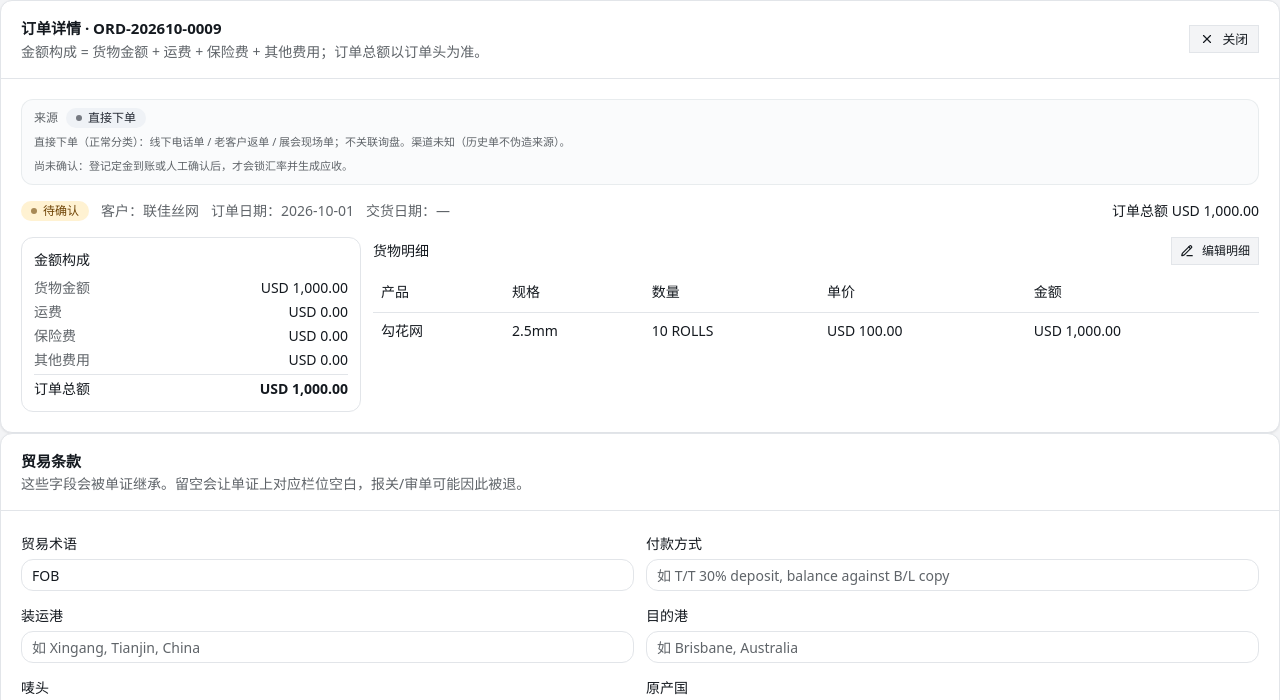
Test case: pending 订单：直接改明细 › 空产品名在本地拦下（不打 PATCH）
Click the button "编辑明细" at (1215, 250), box [1171,236,1259,264]
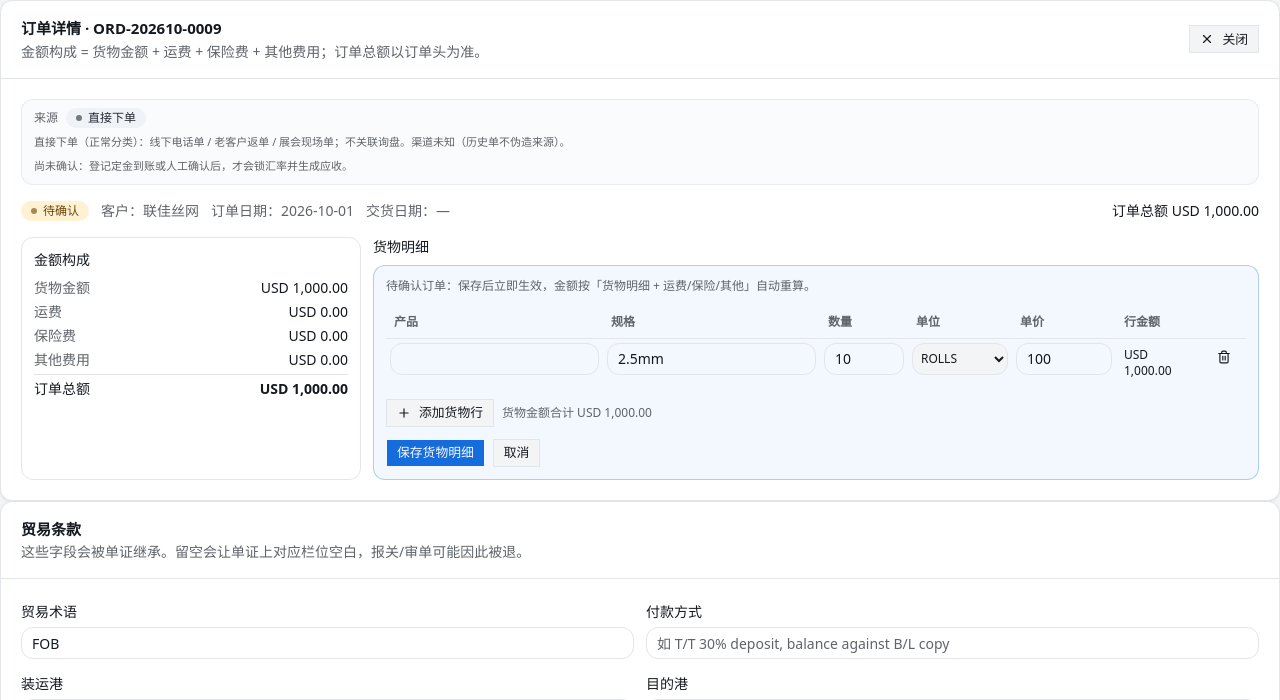
Click the button "保存货物明细" at (435, 452), box [386,438,485,466]
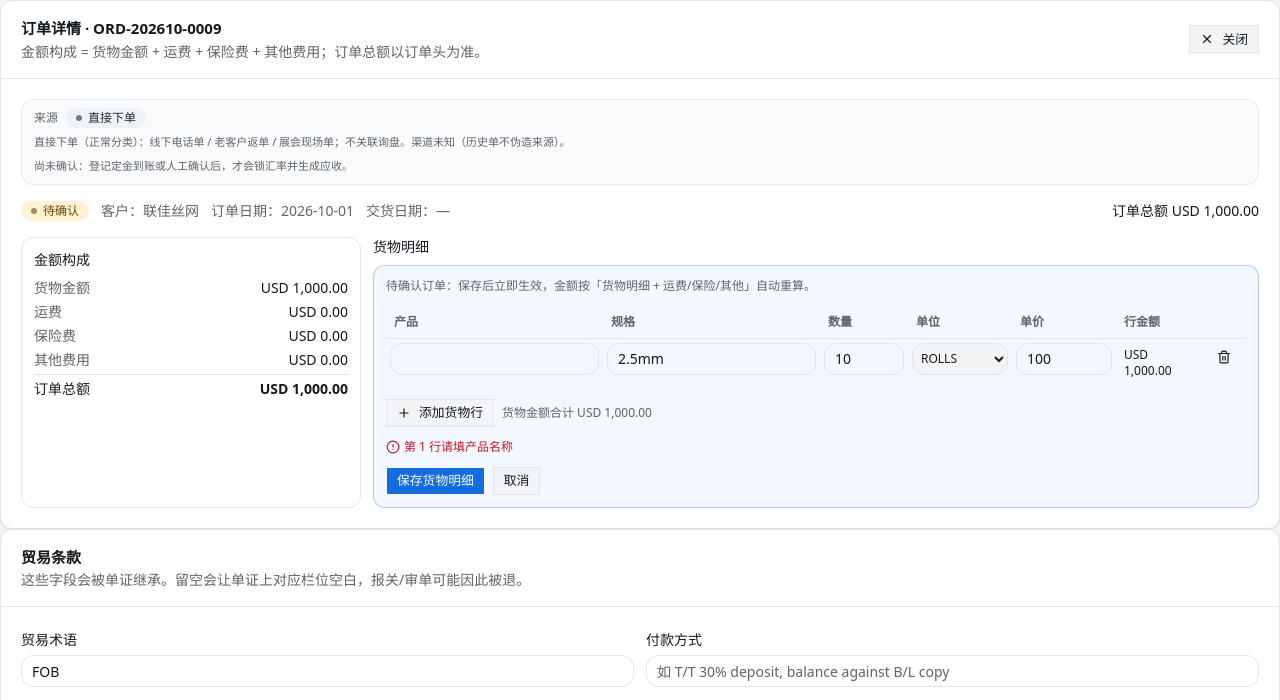
Now the text "请填产品名称" is shown, box [404,438,513,454]
